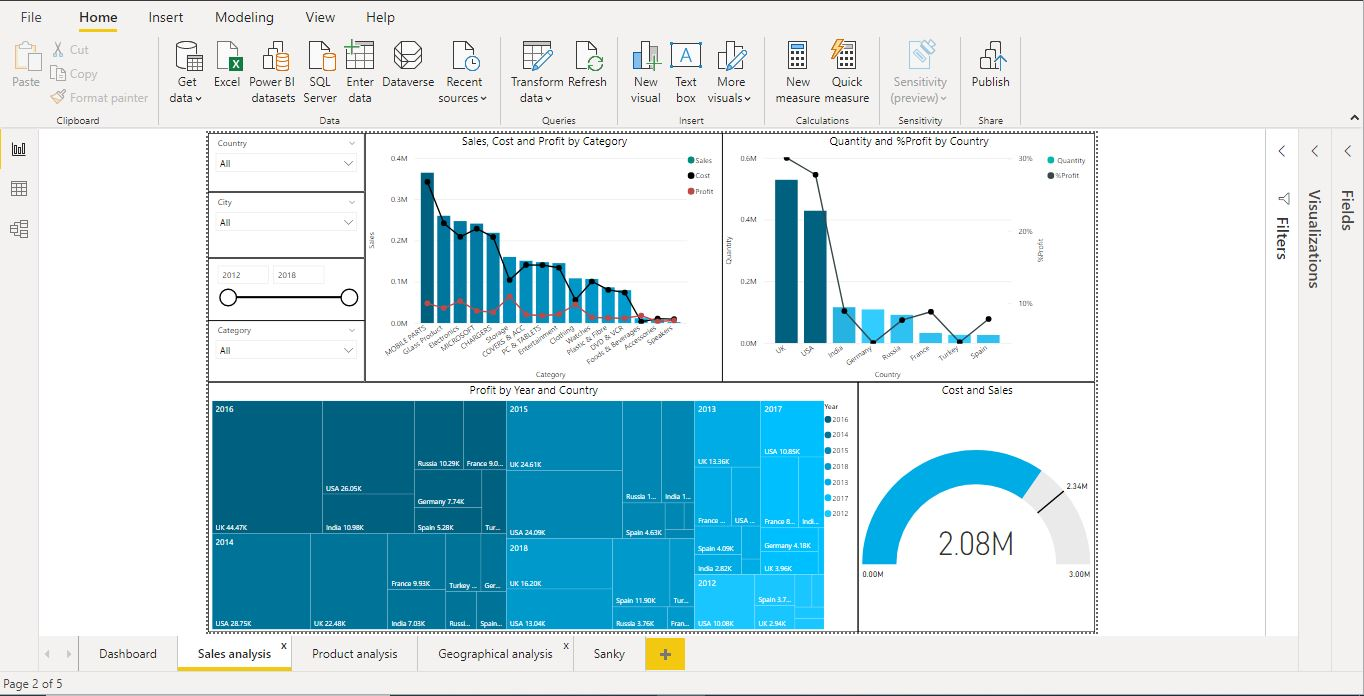

What the dashboard file says about the page in this screenshot:
{"tool":"powerbi","page":{"name":"Sales analysis","canvas":[1280,720],"ordinal":1},"visuals":[{"type":"lineStackedColumnComboChart","fields":{"Y":["Sum(Sheet1.Sales)"],"Category":["Sheet1.Category","Sheet1.Product Name"],"Y2":["Sum(Sheet1.Cost)","Sum(Sheet1.Profit)"]},"box":[226.5,0,515.8,359.5],"z":0},{"type":"lineClusteredColumnComboChart","fields":{"Category":["Sheet1.Country","Sheet1.City"],"Y":["Sum(Sheet1. Quantity)"],"Y2":["Divide(Sum(Sheet1.Profit), ScopedEval(Sum(Sheet1.Profit), []))"]},"box":[742.3,0,537.7,359.5],"z":1000},{"type":"gauge","fields":{"TargetValue":["Sum(Sheet1.Sales)"],"Y":["Sum(Sheet1.Cost)"]},"box":[938.1,359.5,341.9,360.9],"z":2000},{"type":"treemap","fields":{"Group":["Sheet1.Year"],"Values":["Sum(Sheet1.Profit)"],"Details":["Sheet1.Country"]},"box":[0,359.5,938.1,360.9],"z":3000},{"type":"slicer","fields":{"Values":["Sheet1.Country"]},"box":[0,0,226.5,84.7],"z":4000},{"type":"slicer","fields":{"Values":["Sheet1.City"]},"box":[0,84.7,226.5,95],"z":5000},{"type":"slicer","fields":{"Values":["Sheet1.Year"]},"box":[0,179.7,226.5,90.6],"z":6000},{"type":"slicer","fields":{"Values":["Sheet1.Category"]},"box":[0,270.3,226.5,89.1],"z":7000}]}

Visuals, with their boxes on the page's 1280x720 design canvas (x1, y1, x2, y2). These are canvas units, not pixel positions in the 1364x696 screenshot, which may show the page scaled, cropped or inside an application window:
lineStackedColumnComboChart - Sum(Sheet1.Sales) x Sheet1.Category: BBox(226, 0, 742, 360)
lineClusteredColumnComboChart - Sheet1.Country x Sheet1.City: BBox(742, 0, 1280, 360)
gauge - Sum(Sheet1.Sales) x Sum(Sheet1.Cost): BBox(938, 360, 1280, 720)
treemap - Sheet1.Year x Sum(Sheet1.Profit): BBox(0, 360, 938, 720)
slicer - Sheet1.Country: BBox(0, 0, 226, 85)
slicer - Sheet1.City: BBox(0, 85, 226, 180)
slicer - Sheet1.Year: BBox(0, 180, 226, 270)
slicer - Sheet1.Category: BBox(0, 270, 226, 359)
